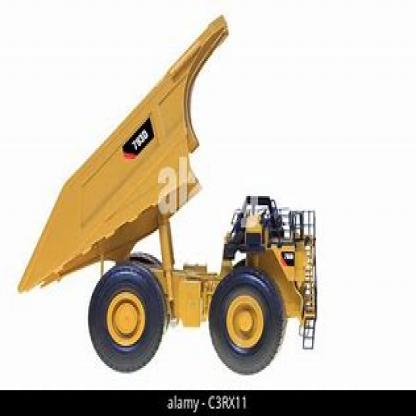dump_truck: (8, 13, 324, 375)
